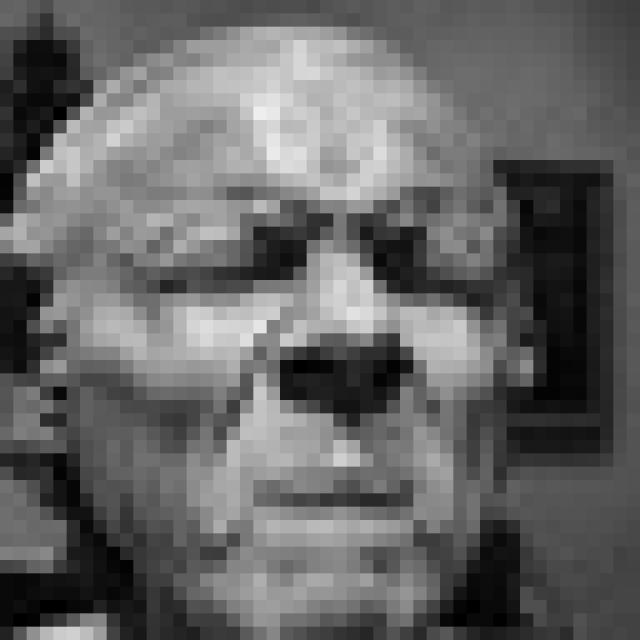disgust: (130, 161, 502, 614)
